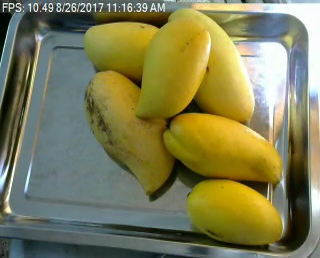Mango: (85, 70, 178, 193), (167, 9, 255, 121), (163, 114, 283, 184), (134, 19, 211, 117), (186, 179, 282, 243), (83, 21, 161, 81)
